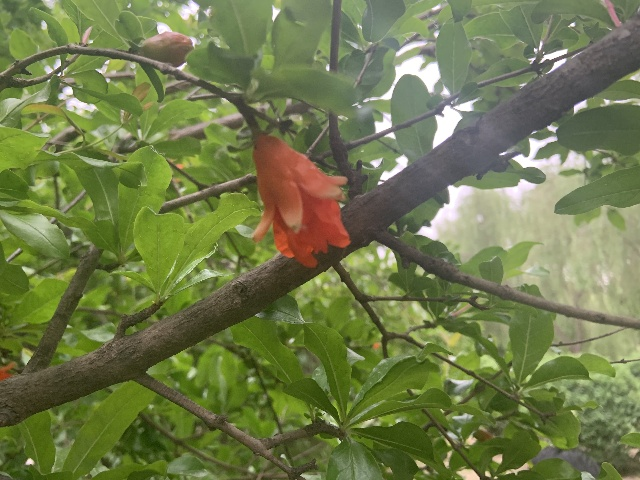bud: (140, 30, 193, 67)
flower: (250, 134, 350, 267)
